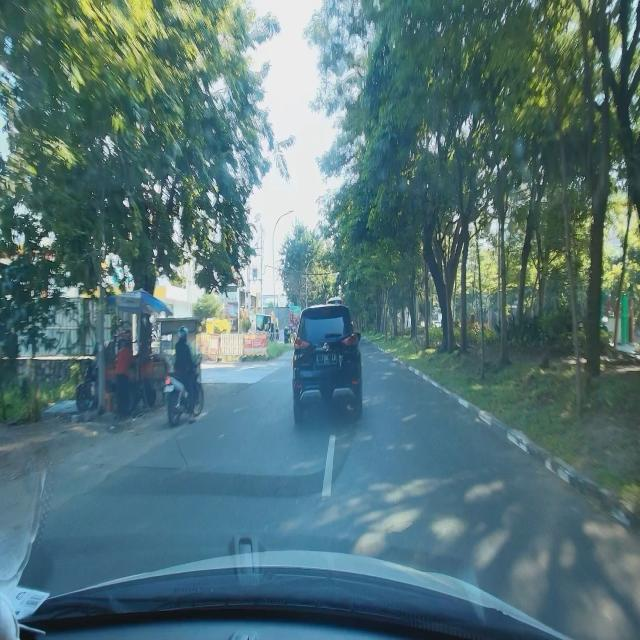car: (292, 306, 362, 426)
license-plate: (316, 352, 337, 367)
